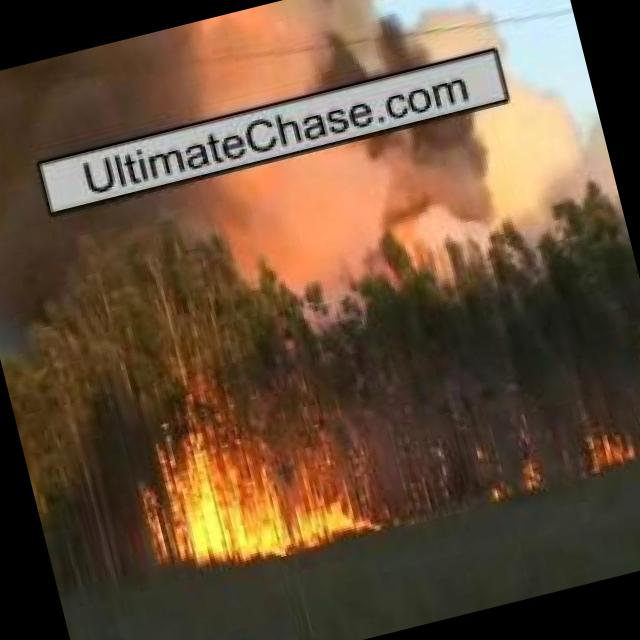Fire: (162, 422, 368, 572), (482, 458, 544, 502), (584, 428, 636, 468)
Smoke: (0, 94, 602, 453), (0, 0, 507, 181)
